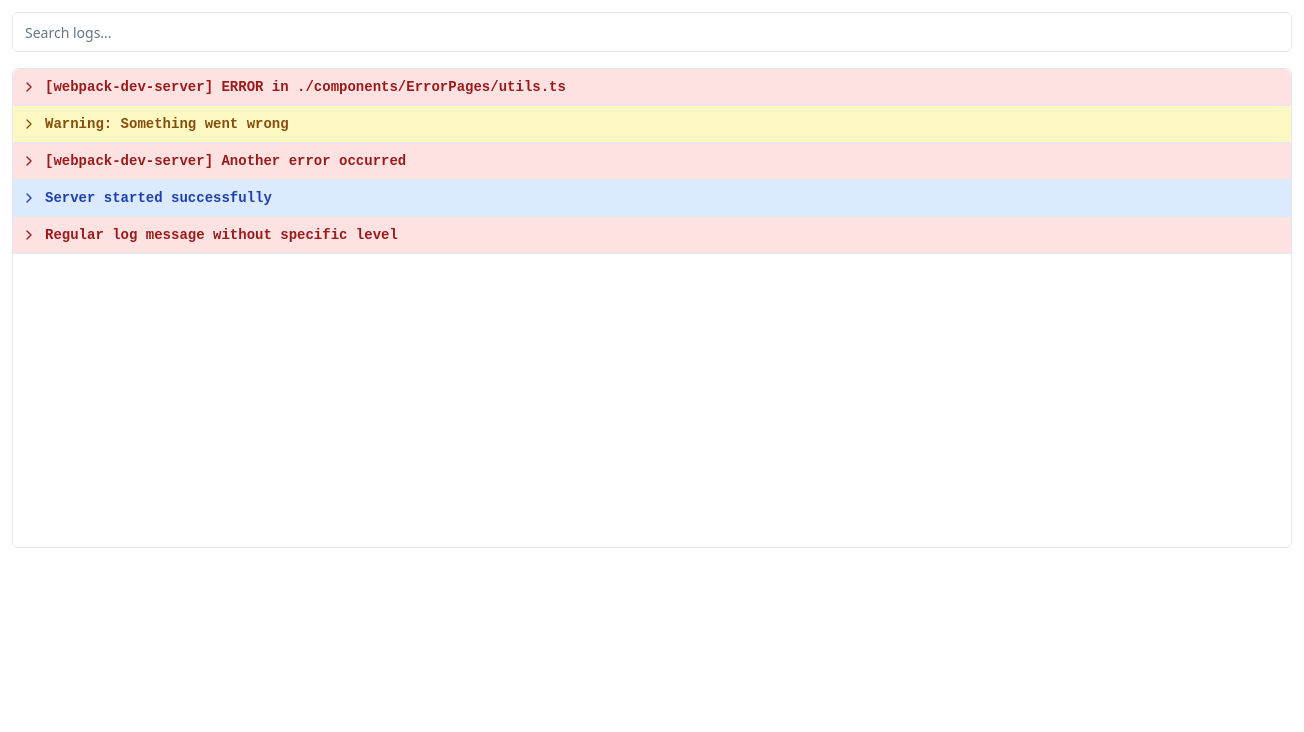
ConsoleOutput › filters errors based on search input
The image size is (1304, 732).
Type "message 1" into the field with placeholder "Search logs...". click: (652, 32)
box: top-left (12, 12), bottom-right (1292, 52)
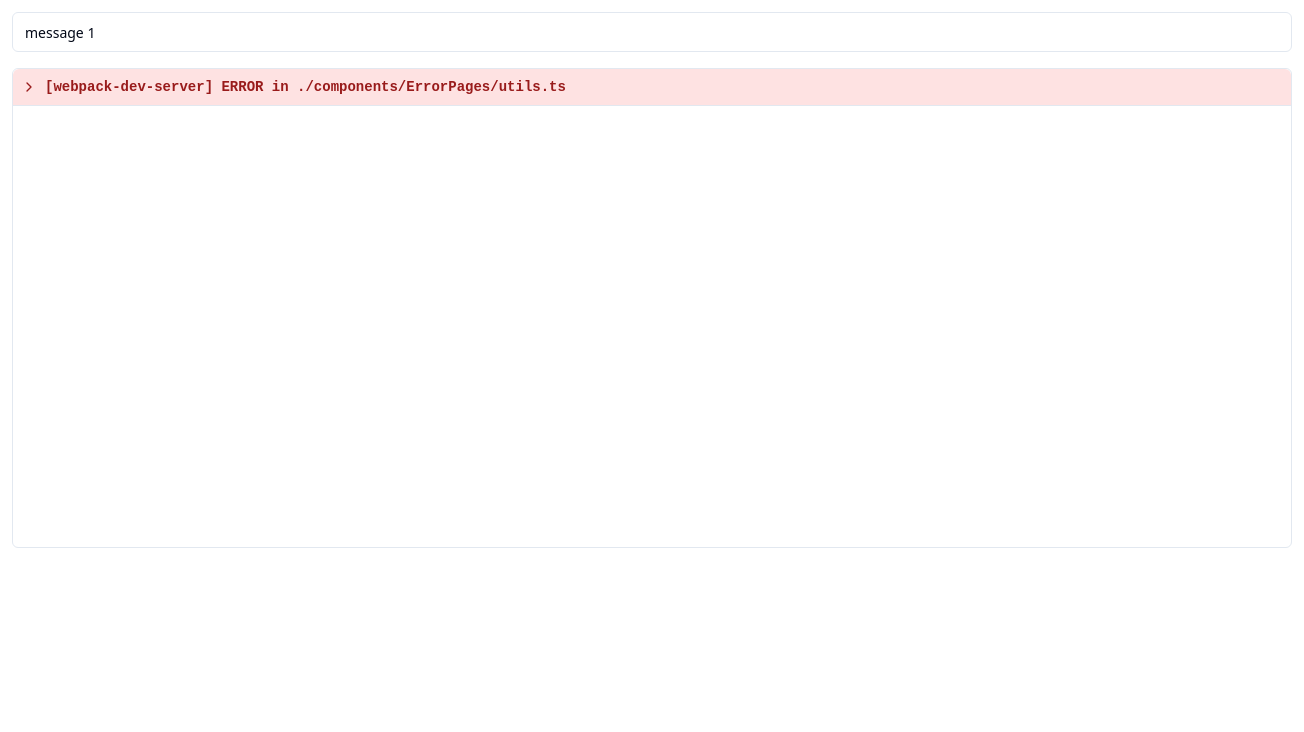
Expected: the text "[webpack-dev-server] ERROR in ./components/ErrorPages/utils.ts" is shown, top-left (45, 77), bottom-right (566, 97)
Now the button "Warning: Something went wrong" is gone
Now the button "[webpack-dev-server] Another error occurred" is gone
